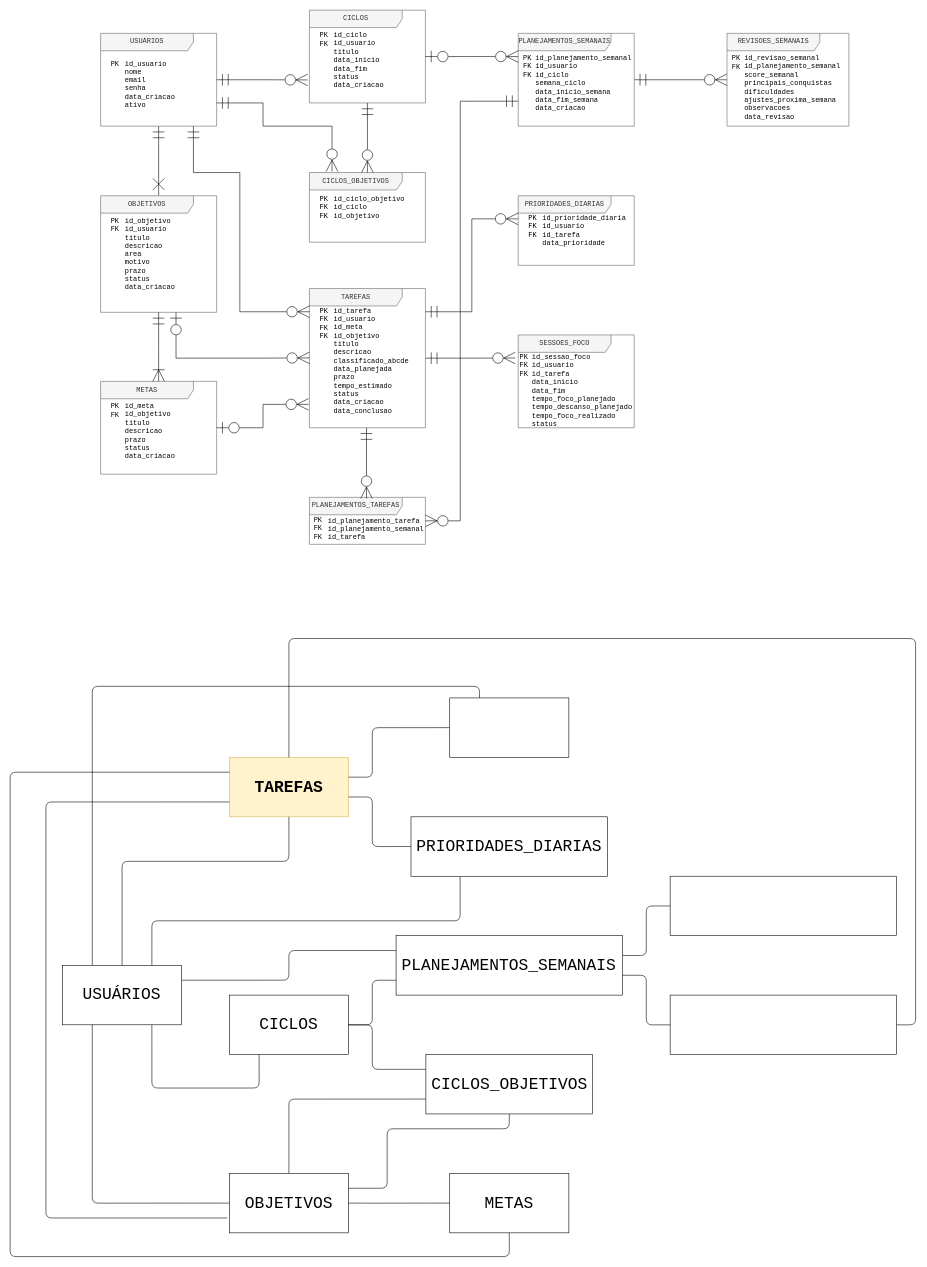
Image size: 927x1267. Some labels were removed from this diagram. The shapes that lost their labels are listed below. From the top down, each one's centre as x and y in pixels, then its label:
At point (509, 727): "SESSÕES_FOCO".
At point (783, 906): "REVISÕES_SEMANAIS".
At point (783, 1025): "PLANEJAMENTO_TAREFAS".
